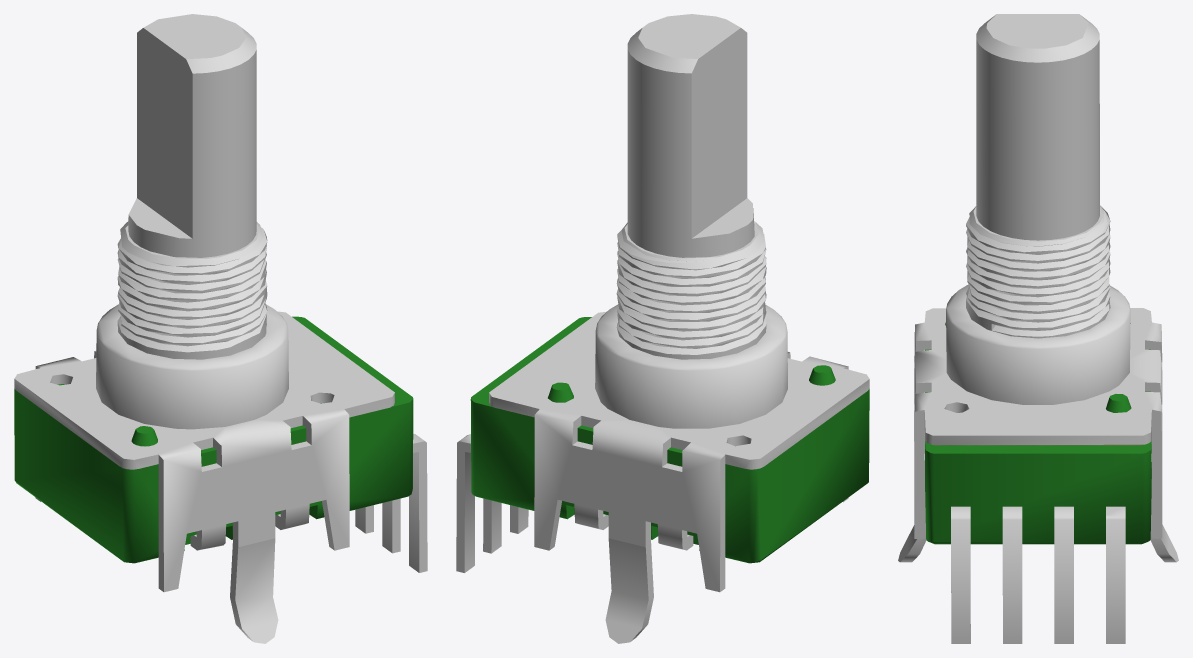
The model's file is pot16_body.glb.
3 renders of one model, left to right at view 1: azimuth 30°, elevation 25°; view 2: azimuth 150°, elevation 25°; view 3: azimuth 270°, elevation 25°, orthographic. The views are drawn at different scales.
Parts seen in each view (by area): view 1: Solid6, Solid12; view 2: Solid6, Solid12; view 3: Solid6, Solid12.
Part boxes in pixels (x1,y1,x2,y2): Solid6: [14, 14, 427, 643]; Solid12: [14, 316, 413, 563]; Solid6: [456, 14, 869, 643]; Solid12: [470, 317, 869, 563]; Solid6: [898, 14, 1178, 643]; Solid12: [925, 322, 1151, 544].
Size of the model in its own units: 0.0169 by 0.0285 by 0.0136.
